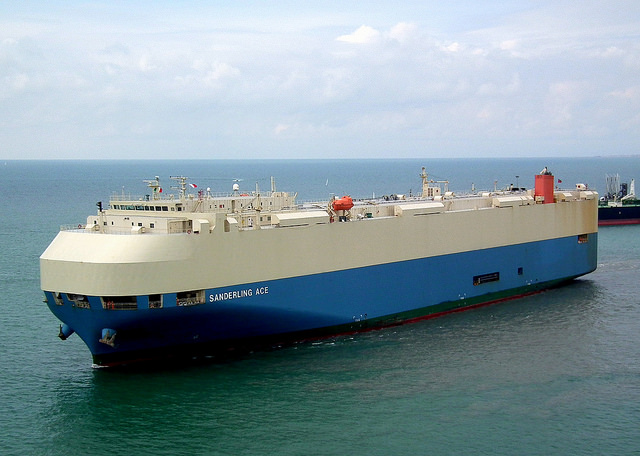PCC: (38, 172, 604, 357)
